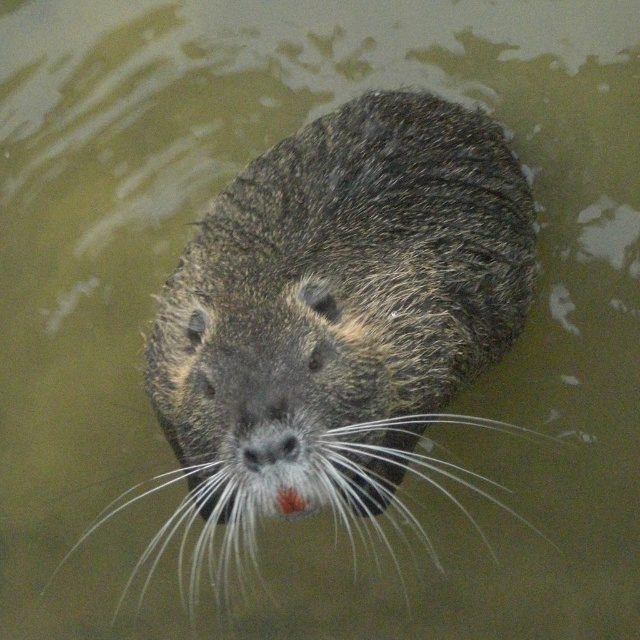Otter: (37, 88, 570, 640)
